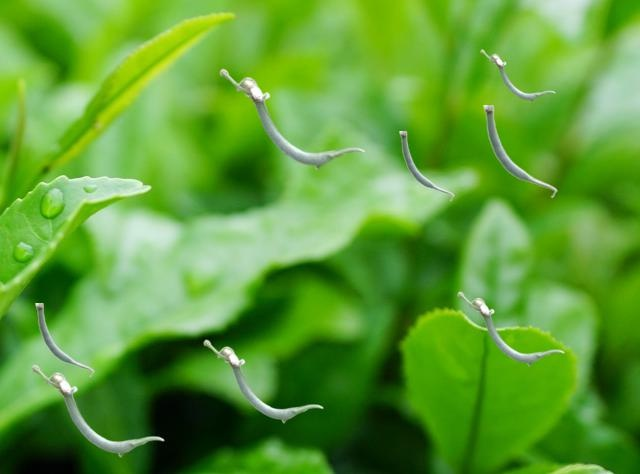french_bean: (219, 68, 364, 169), (31, 364, 163, 456), (203, 339, 322, 422), (457, 291, 563, 365), (483, 105, 556, 197), (35, 303, 93, 376), (480, 49, 554, 101), (399, 131, 453, 200)
